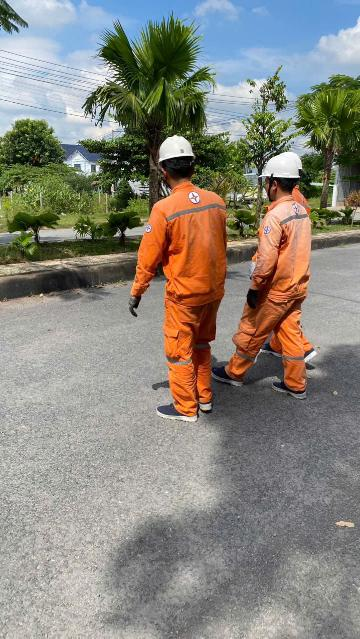gloves: (109, 290, 160, 320), (239, 280, 275, 313), (244, 258, 275, 281)
helmet: (239, 153, 301, 190), (270, 142, 321, 176), (155, 136, 200, 171)
shoes: (149, 401, 216, 441), (268, 375, 321, 414), (194, 385, 233, 427), (282, 337, 329, 371), (249, 331, 291, 364), (203, 364, 252, 392)
